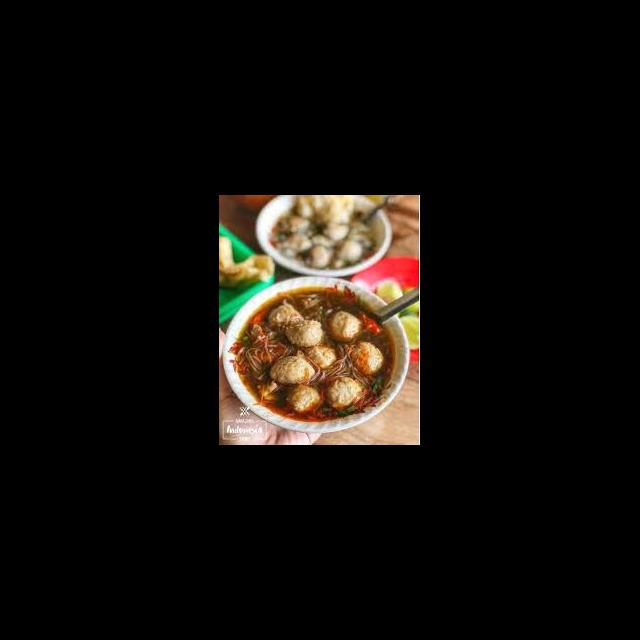food_waste: (280, 319, 363, 389)
